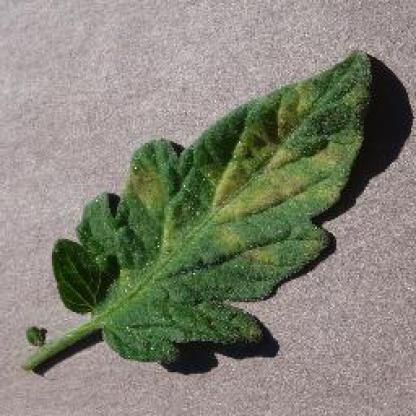bad leaf: (7, 41, 385, 401)
